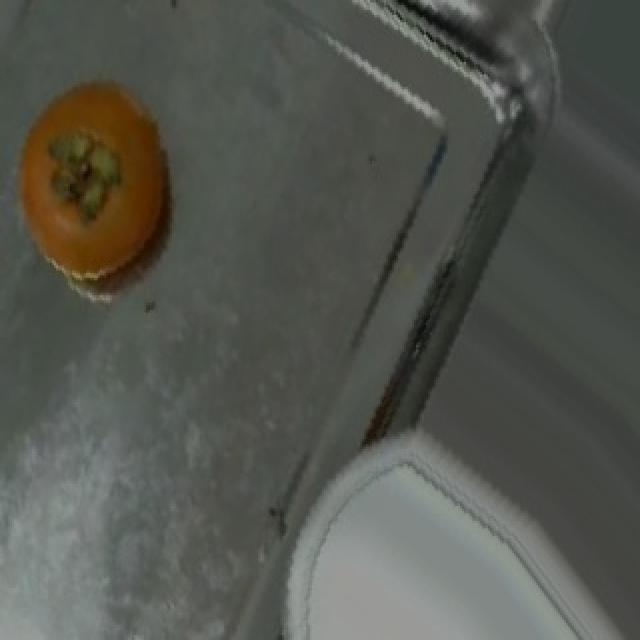Fruit: (2, 52, 196, 303)
